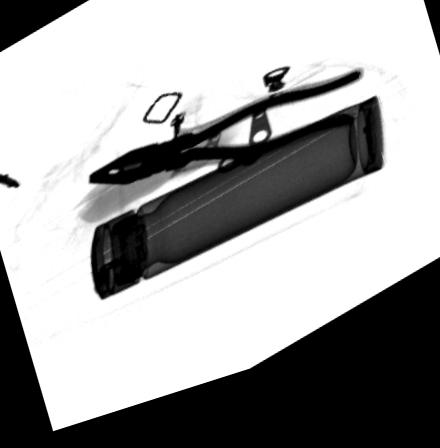Pliers: (85, 88, 363, 193)
